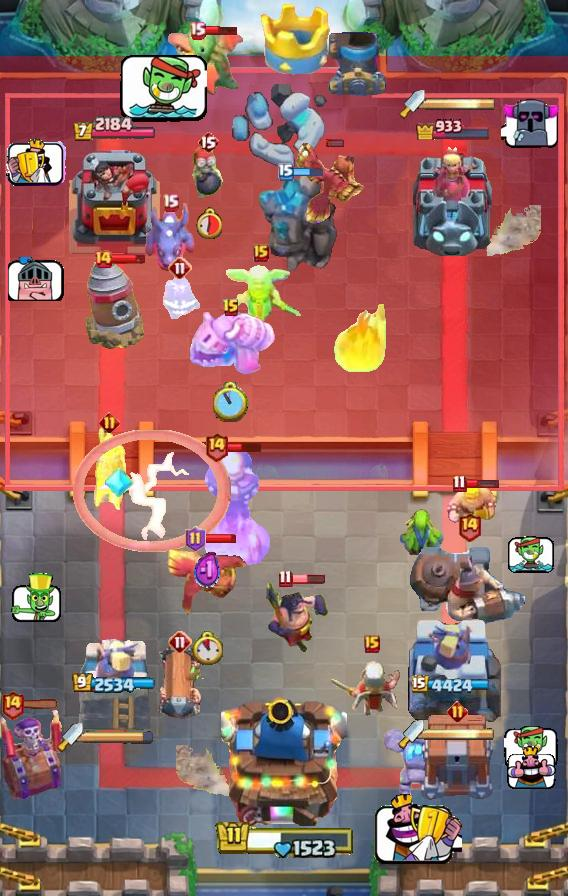archer: (444, 481, 500, 525)
bar: (405, 611, 501, 731), (409, 142, 497, 256), (77, 637, 151, 731)
barbarian-evolution: (73, 430, 231, 552)
battle-healer: (156, 644, 204, 724)
bomb: (418, 715, 496, 801)
bomb-tower: (90, 425, 128, 523)
cannoneer-tower: (256, 176, 340, 274)
clock: (215, 818, 353, 859)
electro-dragon: (195, 447, 273, 573)
electro-spirit: (194, 551, 221, 591)
electro-wizard: (167, 27, 247, 99)
elixir: (213, 382, 249, 422), (193, 631, 223, 665), (194, 207, 221, 239)
emote: (8, 698, 60, 709), (225, 440, 262, 453), (110, 253, 146, 265), (290, 573, 326, 585), (203, 24, 239, 35), (465, 479, 500, 490), (203, 532, 237, 543), (292, 166, 324, 177), (326, 138, 345, 148)
fisherman: (481, 205, 541, 263), (176, 745, 236, 803)
golden-knight: (296, 142, 372, 224)
graveyard: (143, 201, 197, 273)
ice-golem: (190, 145, 226, 201)
king-tower: (221, 690, 347, 826)
king-tower-bar: (83, 730, 155, 744), (425, 97, 495, 111), (424, 727, 494, 741)
magic-archer: (85, 256, 145, 350)
monk: (262, 579, 330, 655)
mother-witch: (164, 541, 250, 625)
musketeer: (328, 32, 388, 96)
night-witch: (186, 306, 276, 378)
pad_2: (105, 465, 133, 499)
poison: (217, 257, 305, 331), (328, 656, 416, 730)
queen-tower: (64, 146, 164, 256)
selected: (71, 116, 156, 143), (416, 116, 493, 140), (72, 673, 156, 695), (412, 675, 494, 697)
skeleton: (117, 52, 207, 126), (373, 792, 462, 863), (501, 96, 561, 149), (5, 139, 66, 187), (9, 573, 63, 625), (7, 257, 64, 301), (504, 726, 558, 769), (508, 746, 557, 790), (509, 536, 556, 574)
skeleton-king-bar: (0, 705, 66, 799)
spear-goblin: (160, 275, 200, 319)
text: (204, 431, 229, 462), (458, 511, 483, 542), (0, 688, 24, 719), (168, 256, 192, 280), (168, 630, 192, 654), (185, 526, 206, 552), (197, 130, 219, 154), (99, 411, 121, 433), (447, 701, 469, 723), (93, 249, 113, 269), (222, 298, 240, 318), (162, 192, 179, 211), (190, 21, 207, 39), (278, 163, 294, 181), (253, 244, 269, 262), (364, 635, 380, 653), (453, 475, 467, 494), (279, 568, 293, 587)
valkyrie: (331, 304, 391, 374)
valkyrie-evolution: (384, 726, 450, 798)
wizard: (408, 544, 530, 628)
zap: (396, 507, 446, 555)
